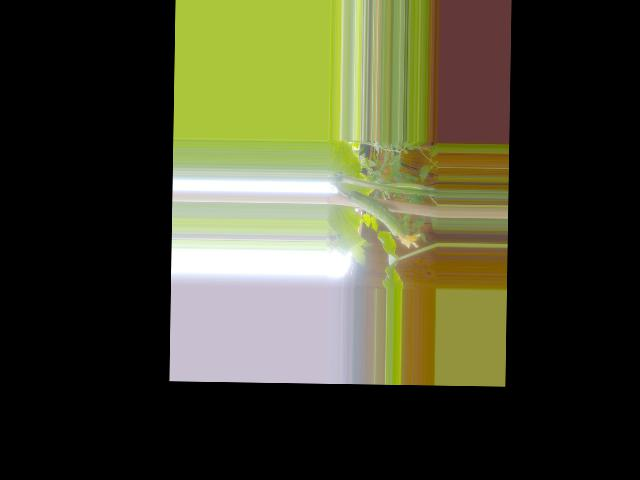cucumber: (347, 191, 421, 249)
